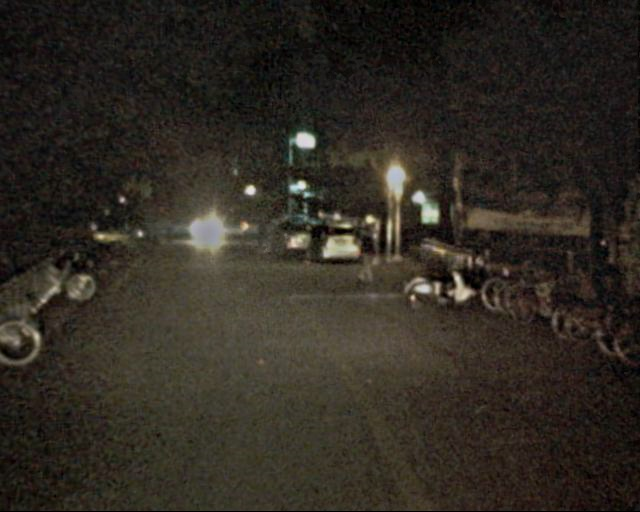person: (351, 227, 377, 291), (252, 223, 266, 257)
